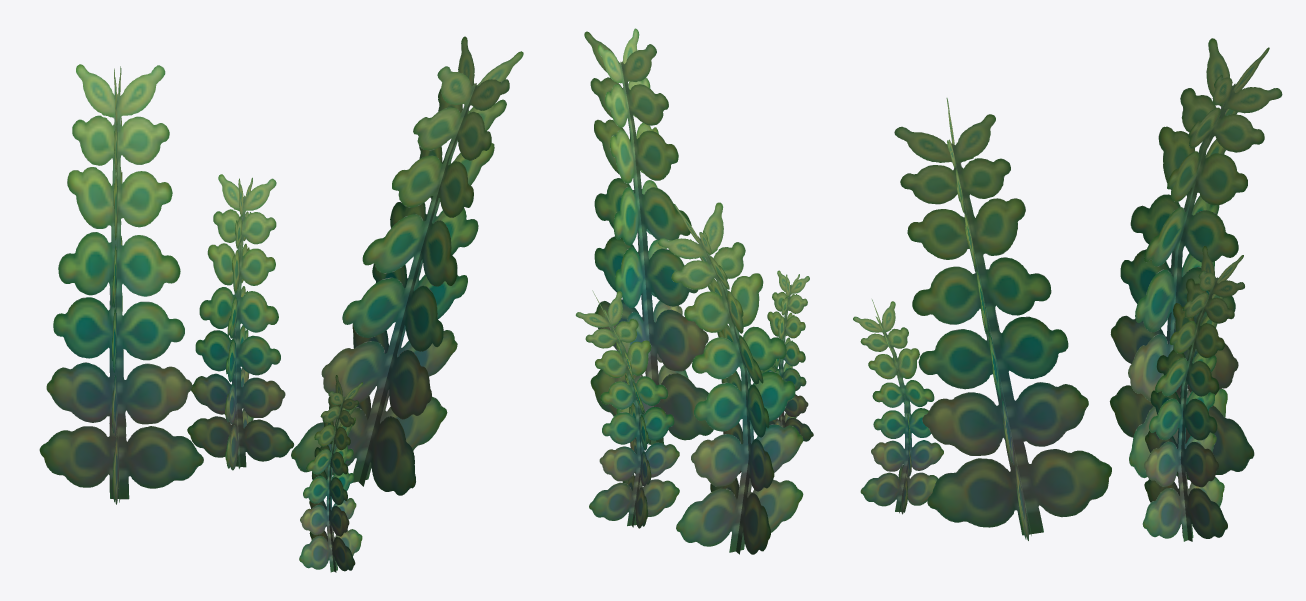
Rendered from Map_07_grass07.FBX.
3 renders of one model, left to right at view 1: azimuth 30°, elevation 25°; view 2: azimuth 150°, elevation 25°; view 3: azimuth 270°, elevation 25°, orthographic. The views are drawn at different scales.
Visible parts, largest first — view 1: Map_07_grass07; view 2: Map_07_grass07; view 3: Map_07_grass07.
Boxes of the visible parts, <box> form: Map_07_grass07: <box>39,36,523,572</box>; Map_07_grass07: <box>575,28,813,554</box>; Map_07_grass07: <box>853,38,1282,541</box>.
Size of the model in its own units: 145 by 175 by 137.
1 material, 1 textured.
